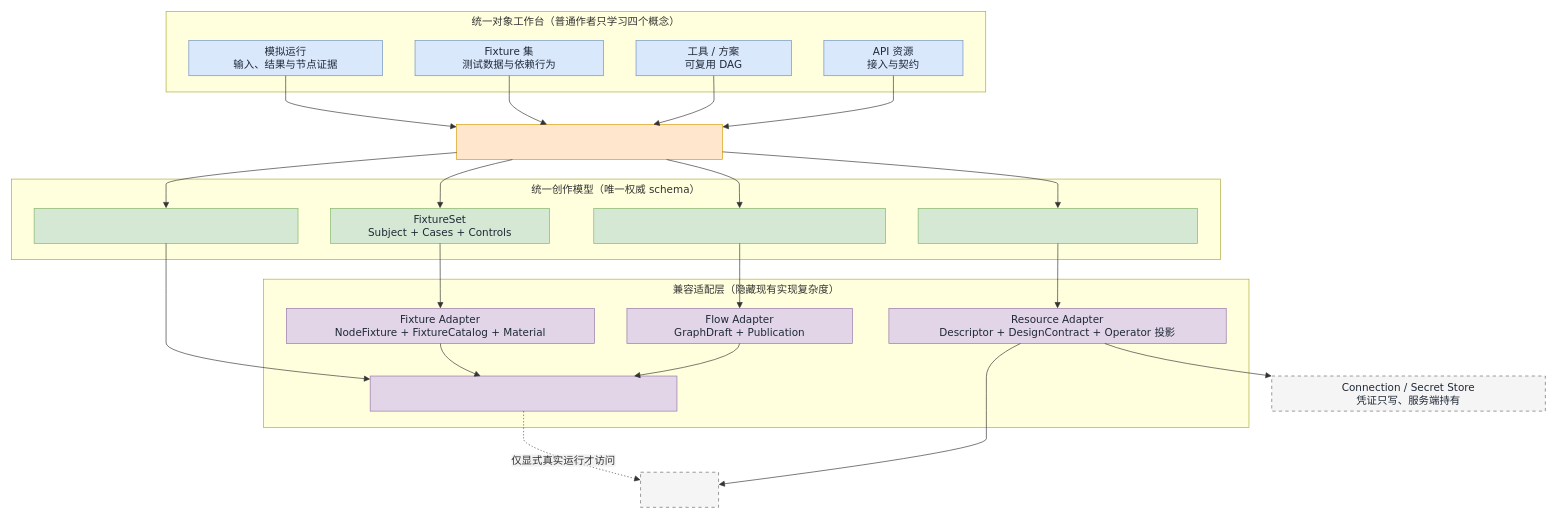
The diagram is 1557 pixels wide and 519 high, and some of its shapes have lost their labels. The shapes that lost their labels are listed below. From the top down, each one's centre as x and y in pixels, then its label:
At point (589, 142): "Authoring Facade 四类稳定命令 + 统一错误语义".
At point (165, 225): "SimulationRun Exact subject + Trace + Verdicts".
At point (739, 225): "ReusableFlowDraft TOOL / SOLUTION + 节点输入绑定".
At point (1057, 225): "ApiResourceSpec 连接引用 + HTTP 操作 + I/O 契约".
At point (523, 393): "Simulation Adapter FixtureCompiler + Kernel + Evidence".
At point (679, 489): "外部 API".
